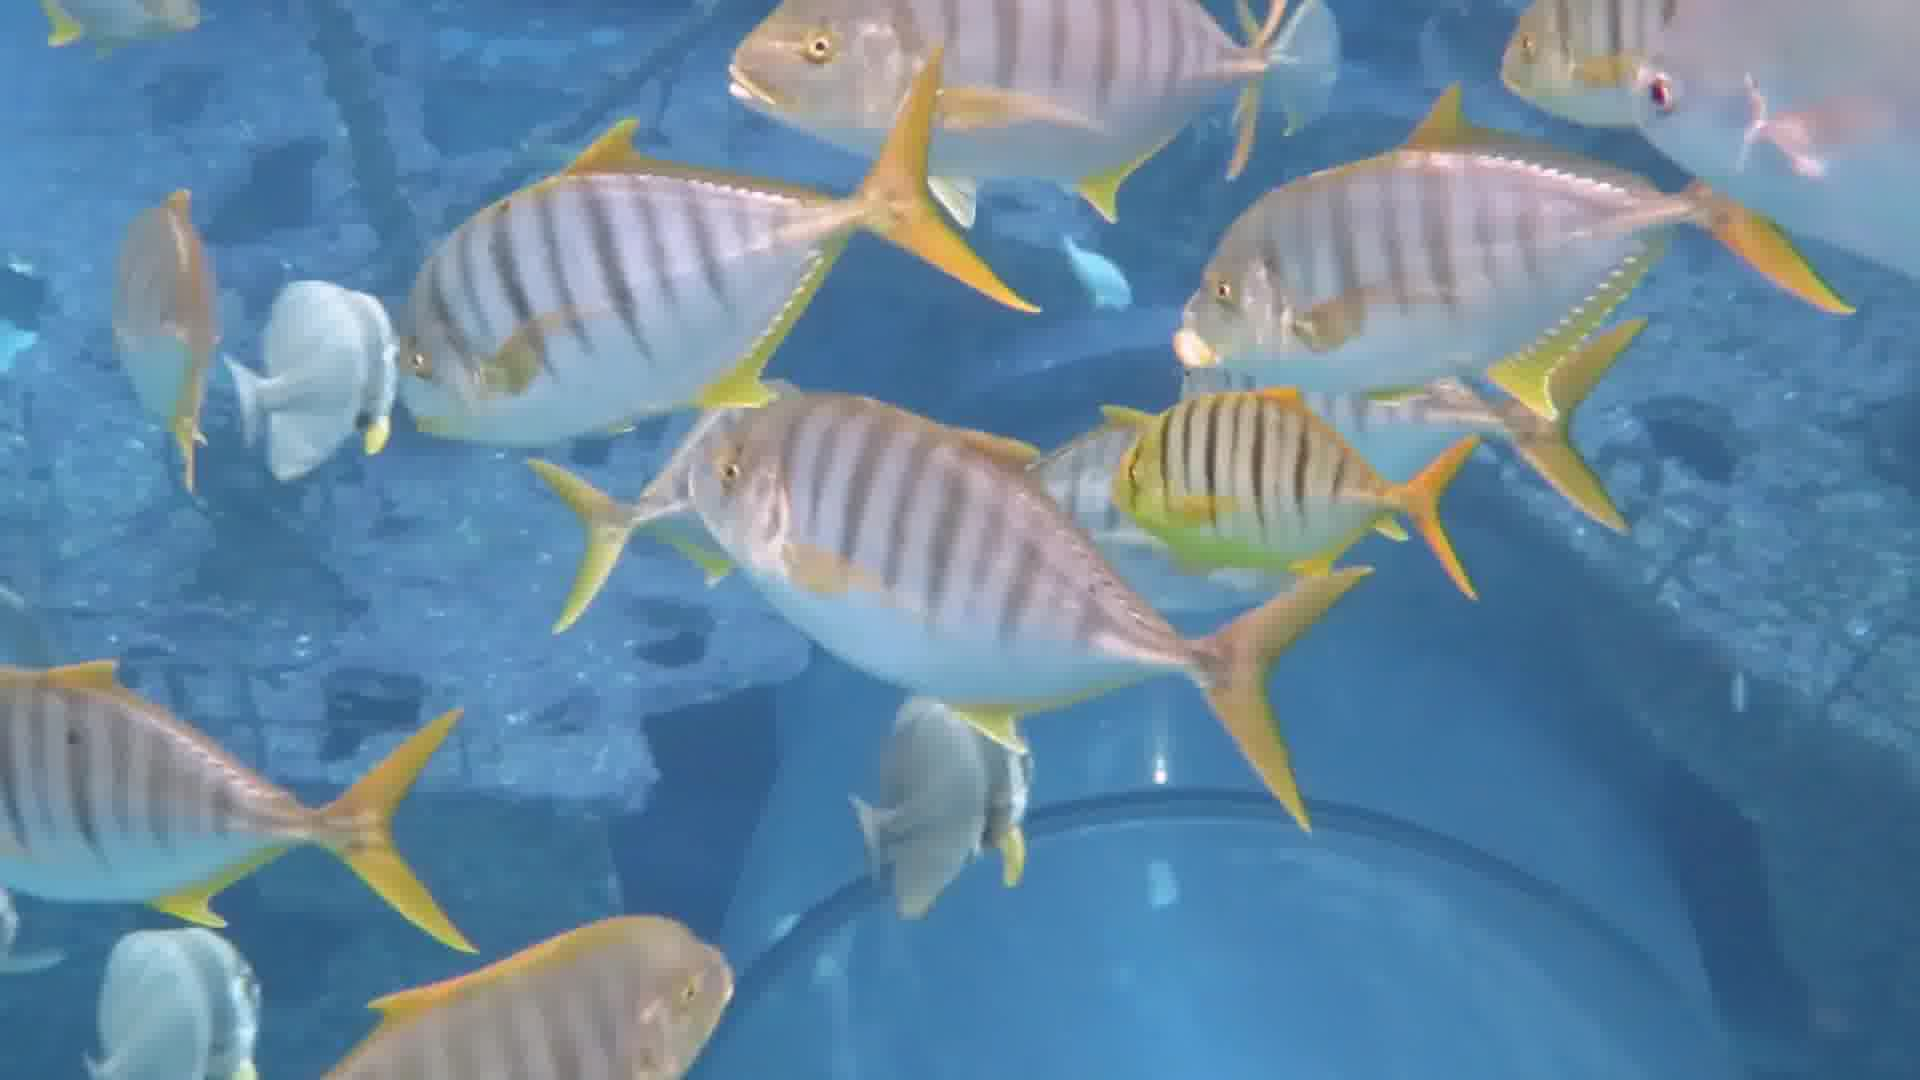Gnathanodon speciosus: (678, 400, 1303, 791), (392, 138, 934, 456), (1189, 152, 1688, 381), (711, 11, 1329, 161), (359, 928, 802, 1080)
